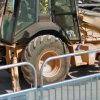Tractor: (7, 5, 100, 87)
